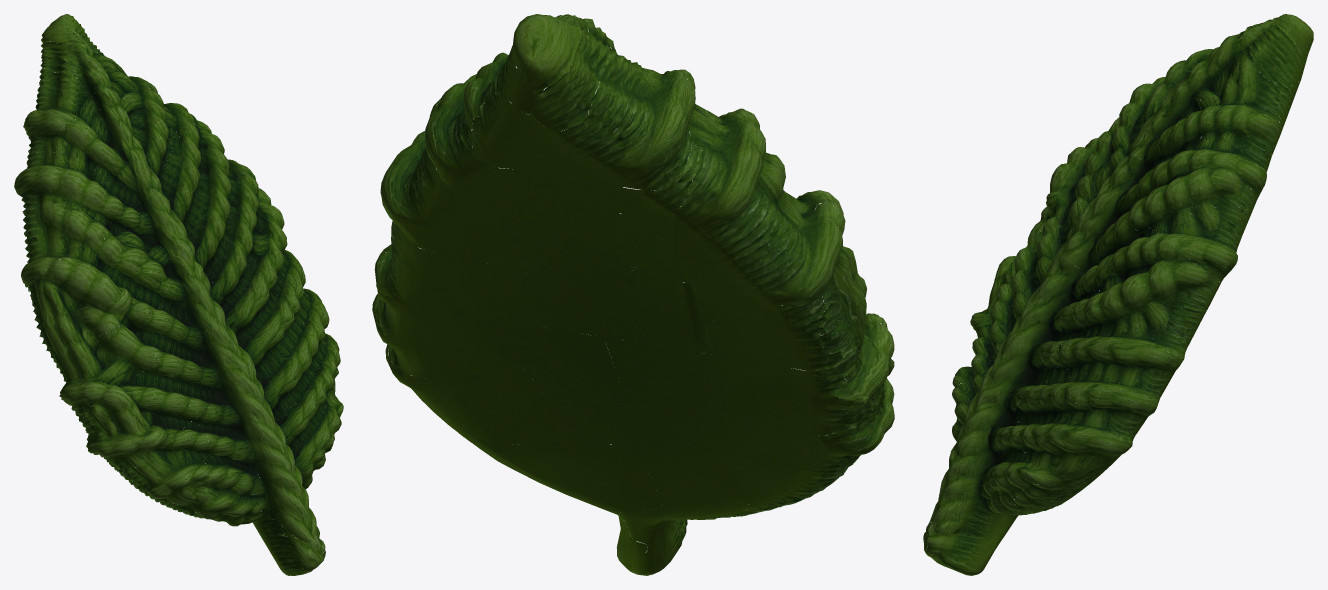
File: Leaf-Animation.glb
The picture shows the model from 3 angles, left to right: view 1: azimuth 30°, elevation 25°; view 2: azimuth 150°, elevation 25°; view 3: azimuth 270°, elevation 25°; orthographic projection. The views are drawn at different scales.
Visible parts, largest first — view 1: Leaf_Target; view 2: Leaf_Target; view 3: Leaf_Target.
Boxes of the visible parts, x1,y1,x2,y2 form: Leaf_Target: [14, 14, 343, 575]; Leaf_Target: [372, 14, 894, 575]; Leaf_Target: [923, 14, 1313, 575].
Bounding box in the file's own units: 1.09 × 1.71 × 1.17.
1 material, 1 textured.
